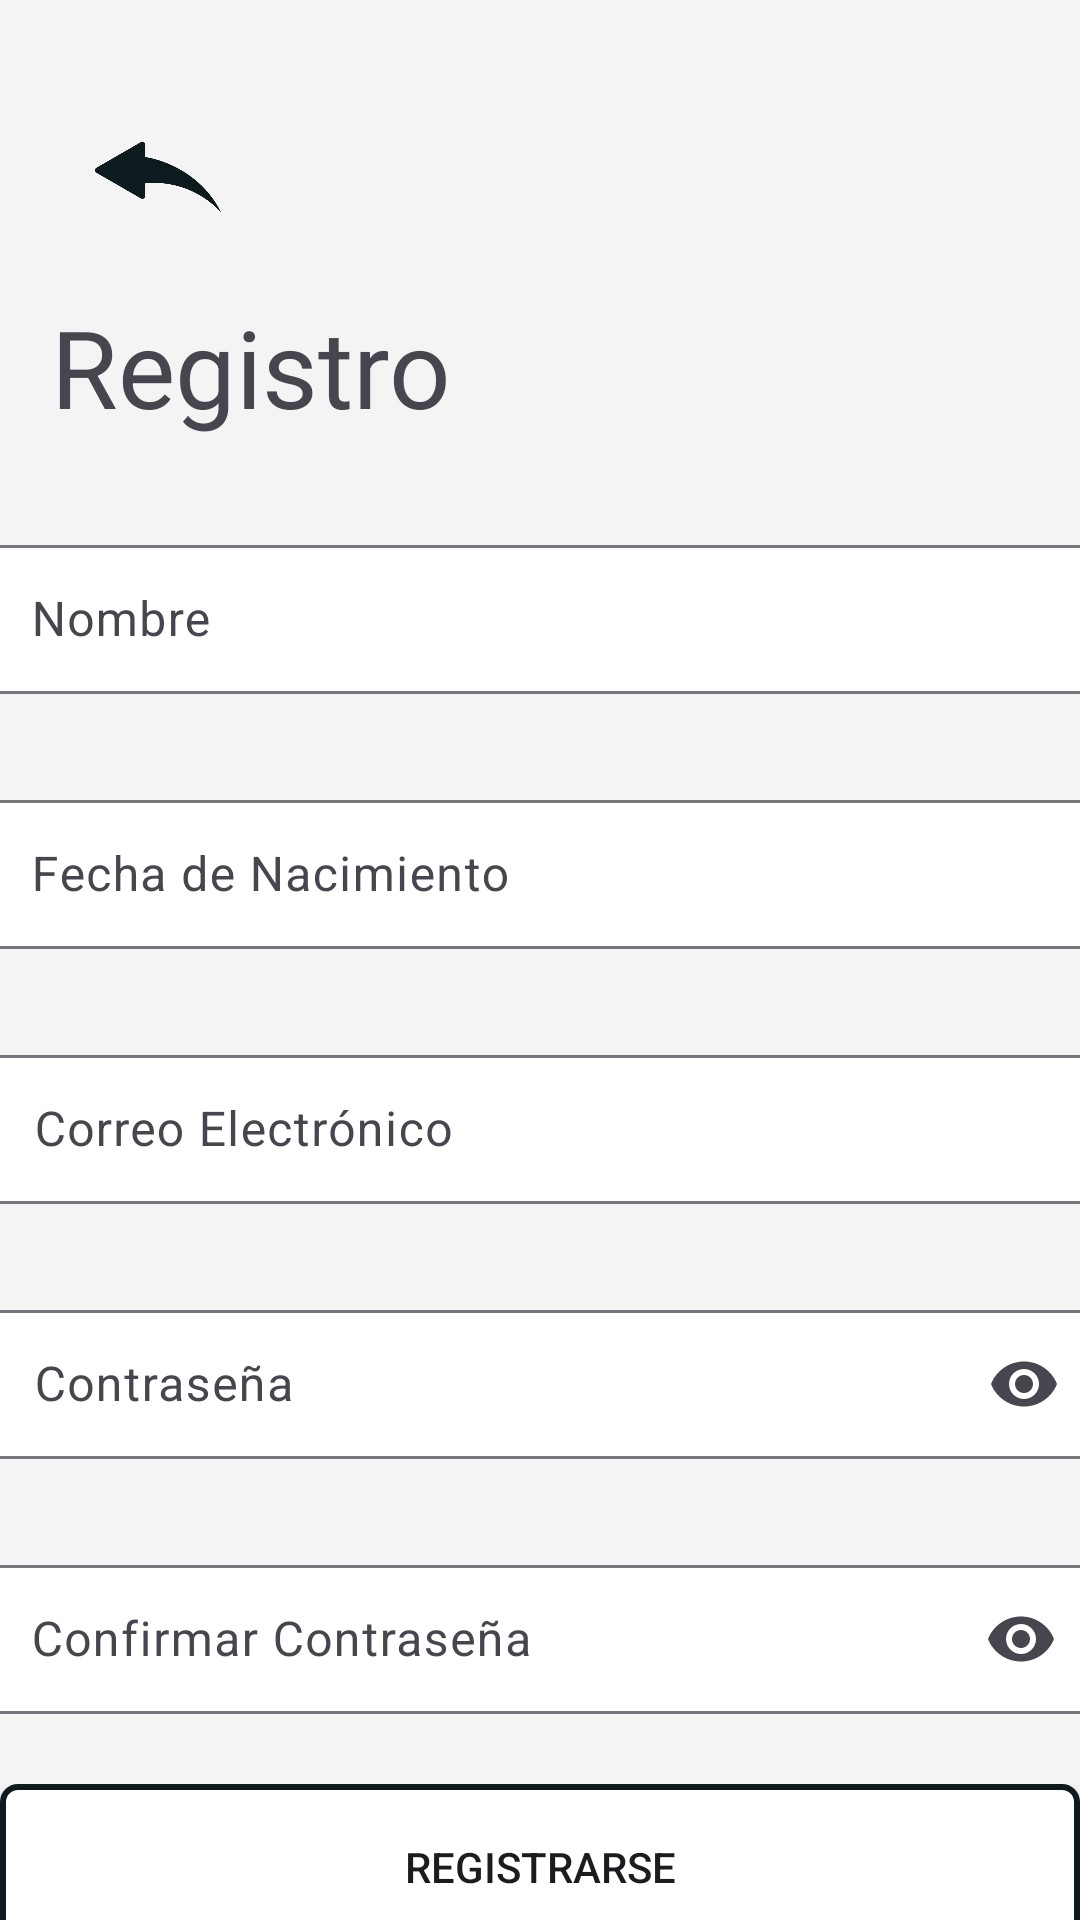

Locate icon controls on the screen. Image size 1080px x 1920px, boxes as box(x1, y1, x2, y2).
regreso: box(95, 141, 221, 212)
